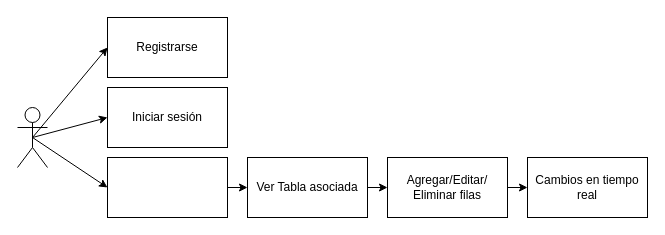
Some shapes in this 665 by 235 pixel diagram are drawn without their labels. The shapes that lost their labels are listed below. From the top down, each one's centre as x and y in pixels, then its label:
At point 32,137: "Actor".
At point 167,187: "Crear Card".
